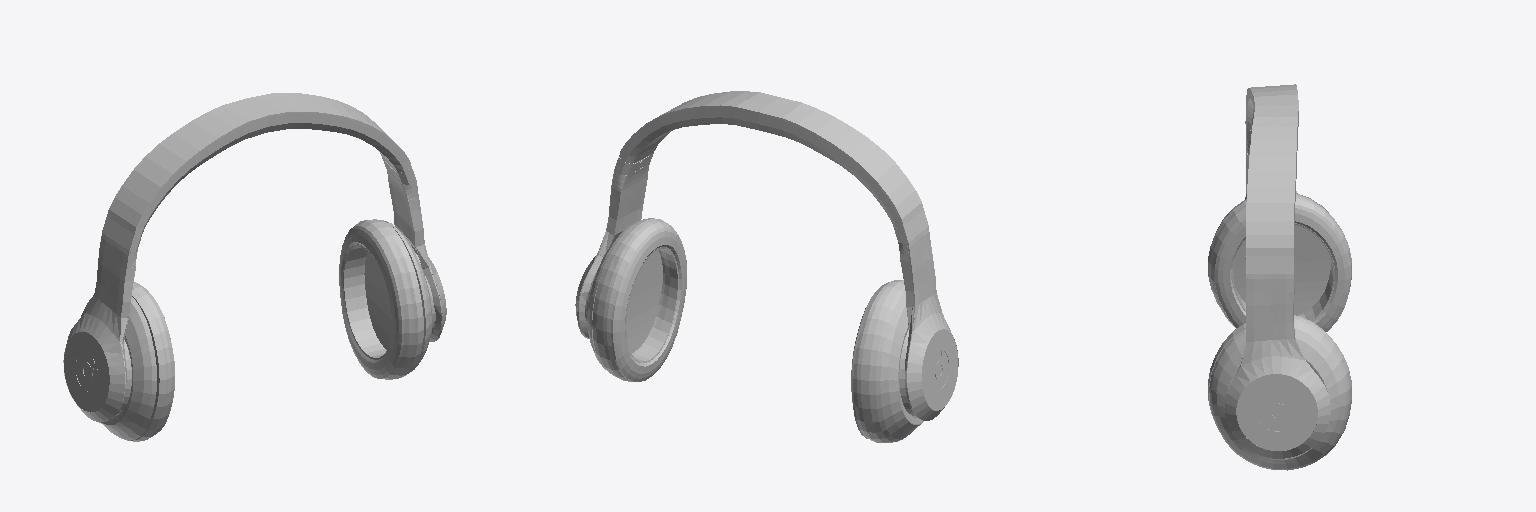
The picture shows the model from 3 angles: view 1: azimuth 30°, elevation 25°; view 2: azimuth 150°, elevation 25°; view 3: azimuth 270°, elevation 25°; orthographic projection.
Parts seen in each view (by area): view 1: Headphonesglossy_Cylinder; view 2: Headphonesglossy_Cylinder; view 3: Headphonesglossy_Cylinder.
Part boxes in pixels (bbox=[...]): Headphonesglossy_Cylinder: bbox=[63, 93, 446, 441]; Headphonesglossy_Cylinder: bbox=[575, 91, 958, 442]; Headphonesglossy_Cylinder: bbox=[1208, 84, 1351, 470].
Size of the model in its own units: 24.31 by 19.98 by 8.69.